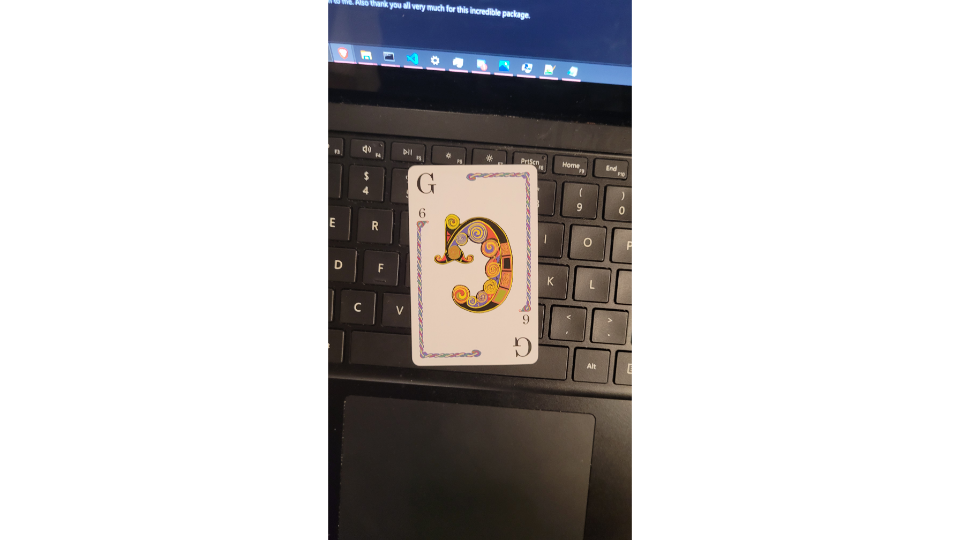G: (403, 160, 542, 368)
